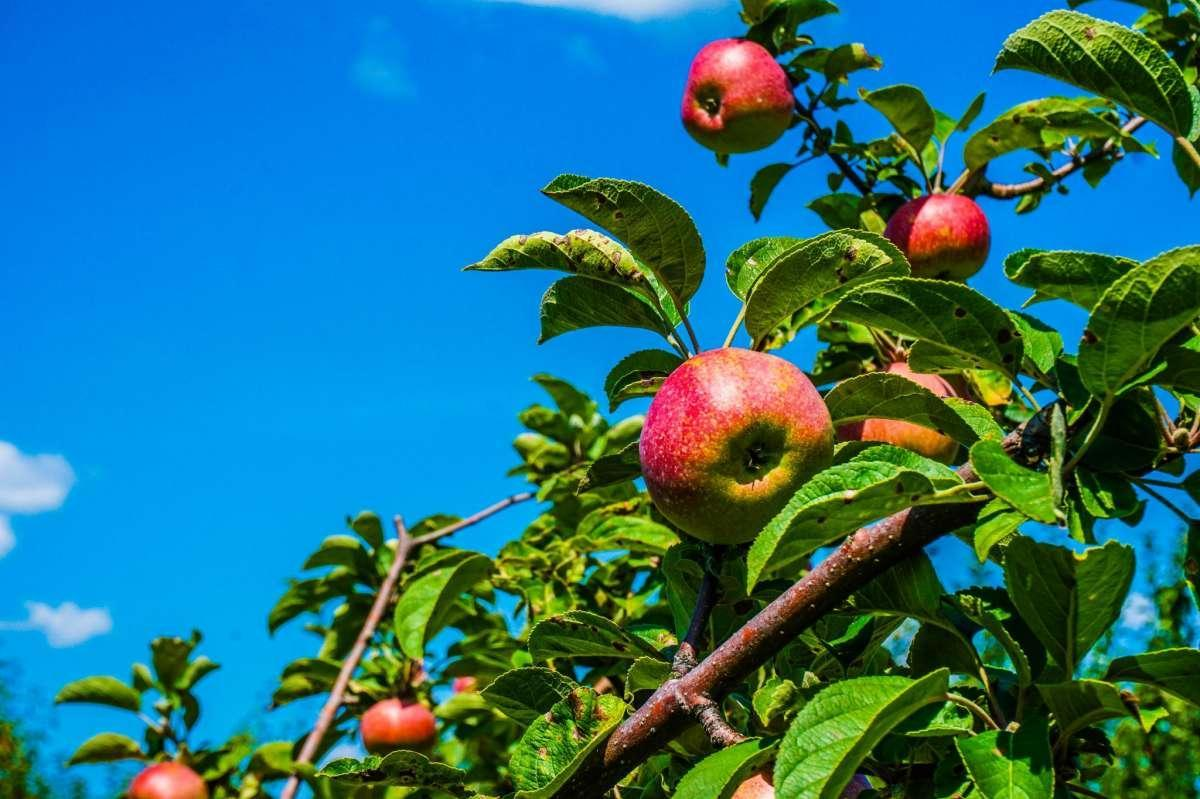apple: (641, 347, 837, 545), (681, 37, 793, 161), (887, 188, 992, 281)
